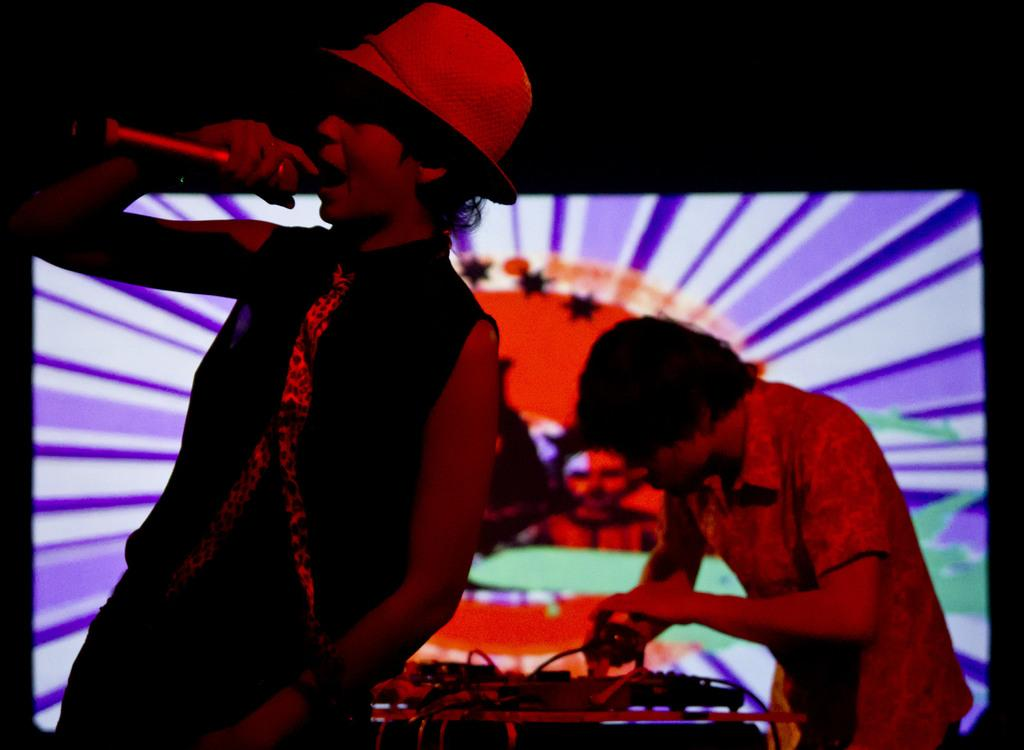Hat: (310, 0, 534, 203)
